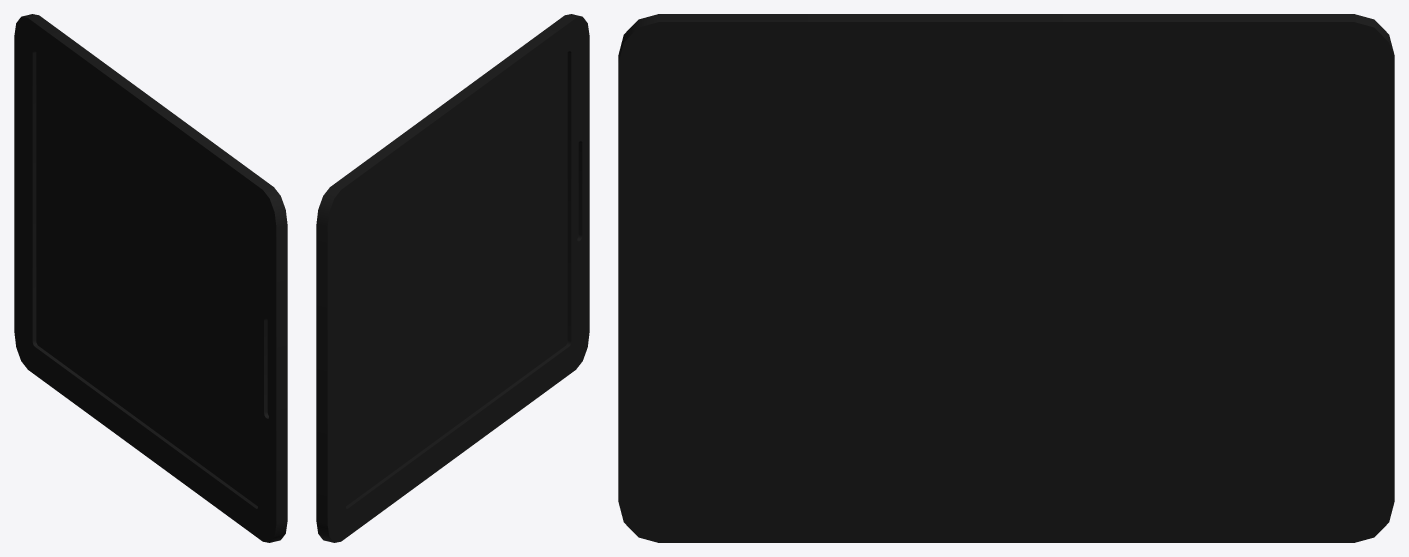
File: TVScreen.fbx
The picture shows the model from 3 angles, left to right: view 1: azimuth 30°, elevation 25°; view 2: azimuth 150°, elevation 25°; view 3: azimuth 270°, elevation 25°; orthographic projection. The views are drawn at different scales.
Parts seen in each view (by area): view 1: tablet__2_; view 2: tablet__2_; view 3: tablet__2_.
Boxes of the visible parts, left/top/right/bottom form: tablet__2_: left=14, top=14, right=287, bottom=542; tablet__2_: left=316, top=14, right=589, bottom=542; tablet__2_: left=618, top=14, right=1394, bottom=542.
Size of the model in its own units: 2.55 by 76.84 by 104.
